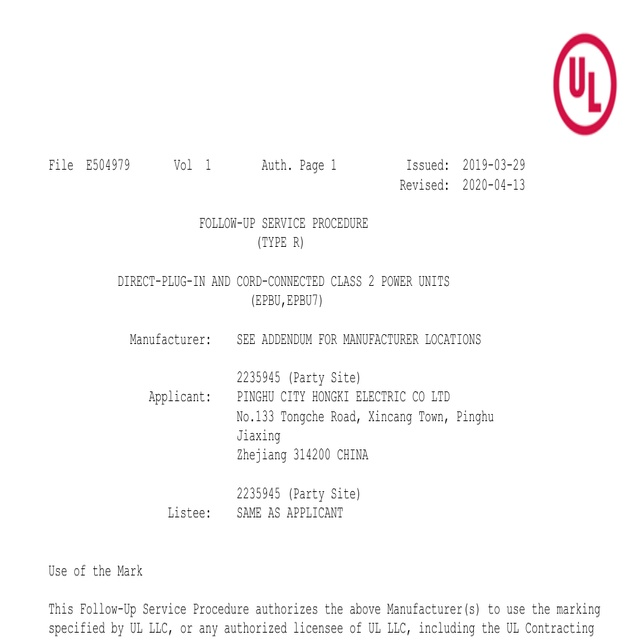ul: (550, 33, 617, 136)
